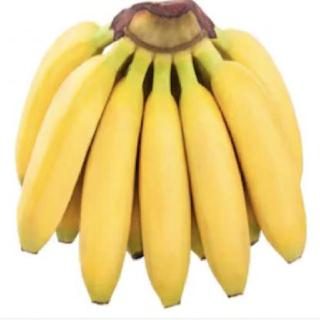banana: (210, 60, 309, 264), (16, 55, 116, 256), (177, 86, 253, 300), (77, 79, 146, 305), (137, 89, 192, 309)
